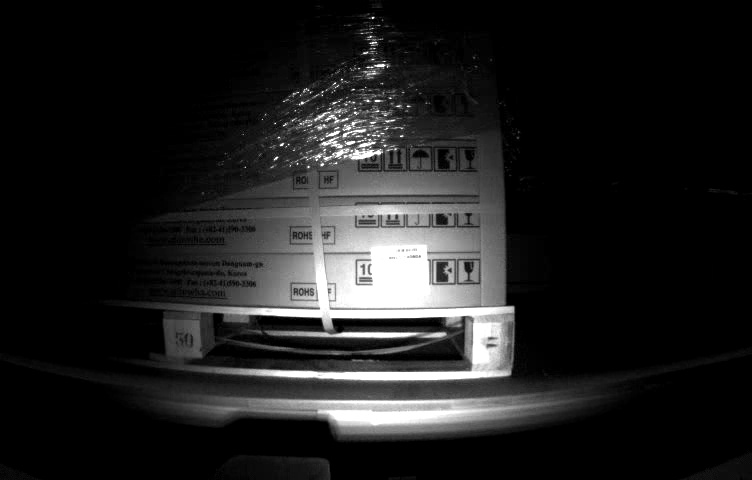True Barcode: (365, 244, 431, 295)
